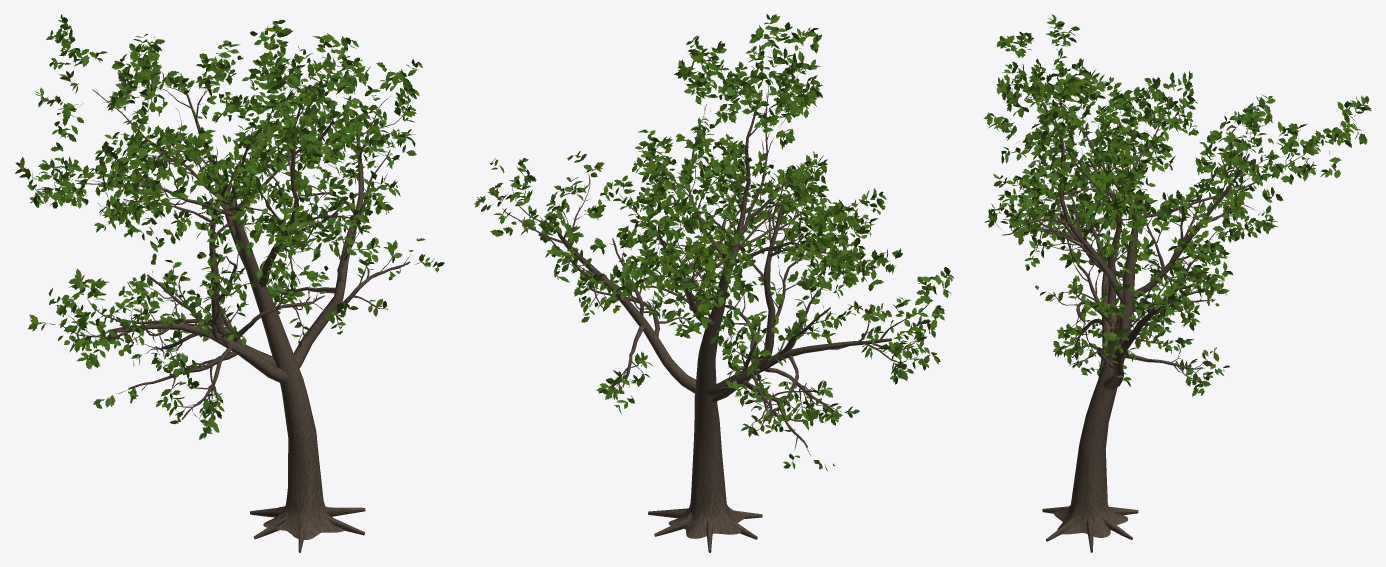
The model's file is tree_oak.glb.
3 views of the same model, side by side, from view 1: azimuth 30°, elevation 25°; view 2: azimuth 150°, elevation 25°; view 3: azimuth 270°, elevation 25° (orthographic). The views are drawn at different scales.
Parts seen in each view (by area): view 1: lod0_tree_oak_bark, lod0_tree_oak_leaf_b, lod0_tree_oak_leaf_c, lod0_tree_oak_leaf_a, lod1_tree_oak_leaf_a, lod1_tree_oak_leaf_b, lod1_tree_oak_leaf_c, lod1_tree_oak_bark; view 2: lod0_tree_oak_bark, lod0_tree_oak_leaf_c, lod0_tree_oak_leaf_a, lod0_tree_oak_leaf_b, lod1_tree_oak_leaf_c, lod1_tree_oak_leaf_b, lod1_tree_oak_leaf_a, lod1_tree_oak_bark; view 3: lod0_tree_oak_bark, lod0_tree_oak_leaf_c, lod0_tree_oak_leaf_a, lod0_tree_oak_leaf_b, lod1_tree_oak_leaf_c, lod1_tree_oak_leaf_b, lod1_tree_oak_leaf_a, lod1_tree_oak_bark.
Boxes of the visible parts, bbox=[...] form: lod0_tree_oak_bark: bbox=[32, 53, 420, 552]; lod0_tree_oak_leaf_b: bbox=[25, 20, 436, 438]; lod0_tree_oak_leaf_c: bbox=[15, 17, 444, 439]; lod0_tree_oak_leaf_a: bbox=[22, 17, 439, 434]; lod1_tree_oak_leaf_a: bbox=[20, 23, 434, 432]; lod1_tree_oak_leaf_b: bbox=[23, 19, 437, 425]; lod1_tree_oak_leaf_c: bbox=[15, 14, 418, 432]; lod1_tree_oak_bark: bbox=[112, 54, 405, 548]; lod0_tree_oak_bark: bbox=[499, 37, 937, 552]; lod0_tree_oak_leaf_c: bbox=[476, 16, 949, 468]; lod0_tree_oak_leaf_a: bbox=[477, 22, 953, 468]; lod0_tree_oak_leaf_b: bbox=[473, 15, 949, 469]; lod1_tree_oak_leaf_c: bbox=[475, 16, 950, 468]; lod1_tree_oak_leaf_b: bbox=[491, 14, 951, 466]; lod1_tree_oak_leaf_a: bbox=[477, 22, 952, 470]; lod1_tree_oak_bark: bbox=[551, 90, 891, 549]; lod0_tree_oak_bark: bbox=[996, 48, 1355, 552]; lod0_tree_oak_leaf_c: bbox=[987, 18, 1368, 388]; lod0_tree_oak_leaf_a: bbox=[988, 21, 1365, 395]; lod0_tree_oak_leaf_b: bbox=[984, 16, 1367, 391]; lod1_tree_oak_leaf_c: bbox=[983, 18, 1369, 393]; lod1_tree_oak_leaf_b: bbox=[987, 14, 1371, 392]; lod1_tree_oak_leaf_a: bbox=[987, 26, 1364, 396]; lod1_tree_oak_bark: bbox=[1021, 103, 1247, 547].
Bounding box in the file's own units: 8.33 × 9.73 × 7.01.
4 materials, 4 textured.
